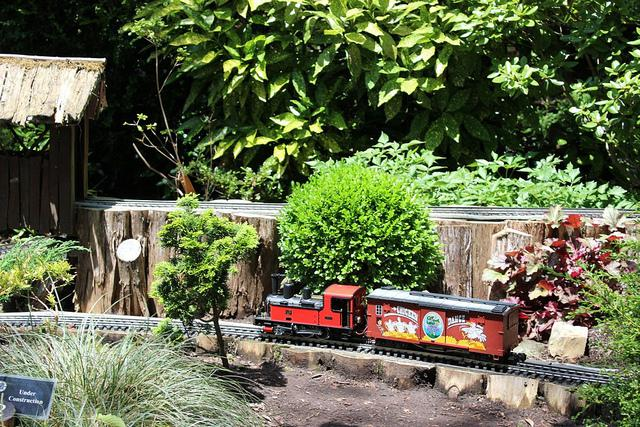Train: (255, 274, 529, 362)
